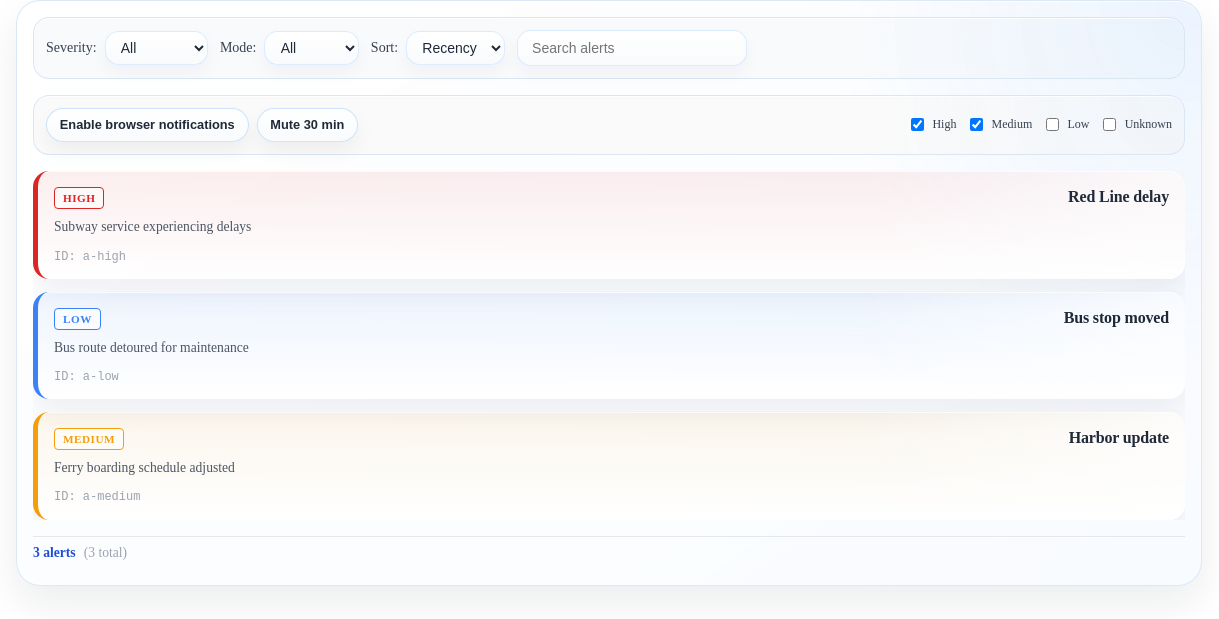
Test: AlertCenter › filters alerts by detected transit mode
Select "Ferry" in the dropdown labelled "Mode:". click: (312, 48)
box: [264,31,359,65]
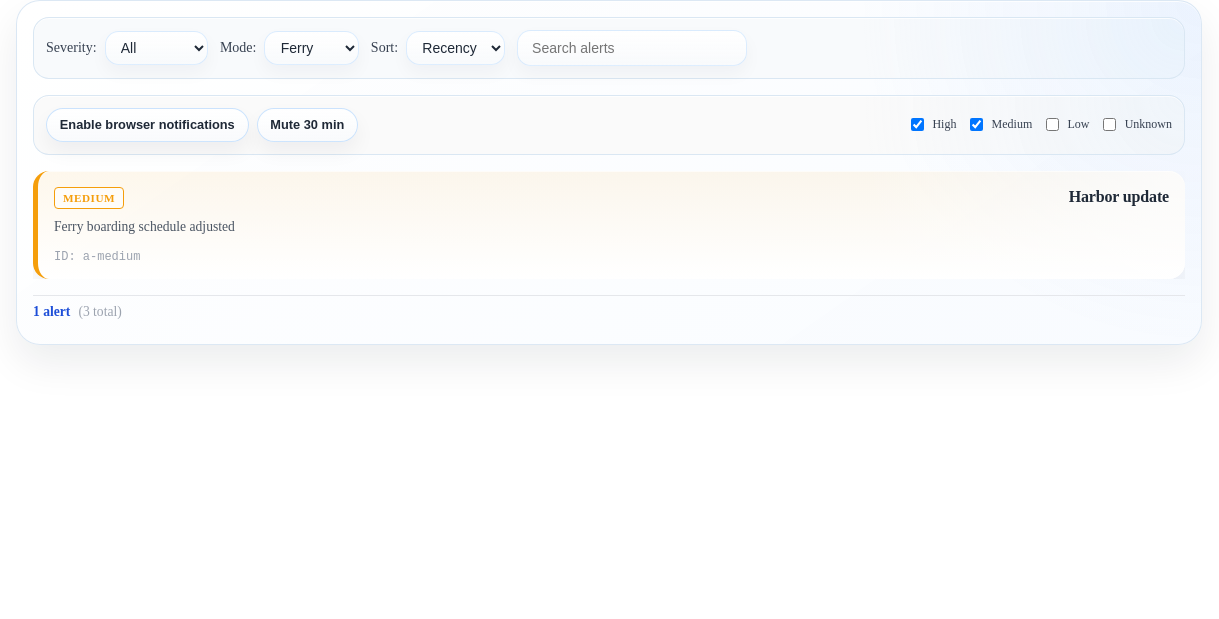
Expected: the heading "Harbor update" is shown, [1069,187,1169,208]
Now the heading "Red Line delay" is gone
